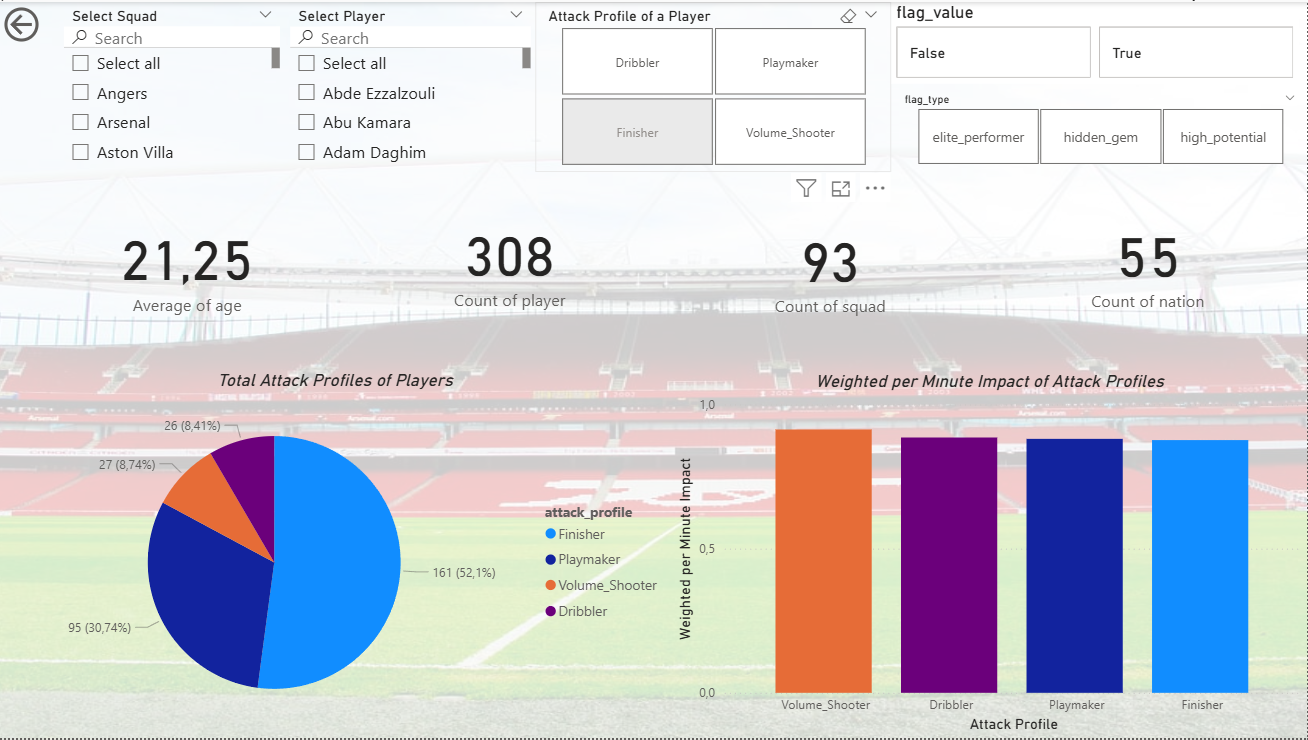

This screenshot's page, from the dashboard's own definition file:
{"tool":"powerbi","page":{"name":"Page 5","canvas":[1280,720],"ordinal":4},"visuals":[{"type":"card","fields":{"Values":["Count(df.player)"]},"box":[342.9,122.4,314.7,217.9],"z":0},{"type":"pieChart","title":"Total Attack Profiles of Players","fields":{"Category":["df.attack_profile"],"Y":["CountNonNull(df.player)"]},"box":[0,360,657.9,358.7],"z":1000},{"type":"slicer","fields":{"Values":["df.attack_profile"]},"box":[687.5,0,592.8,122.1],"z":2000},{"type":"card","fields":{"Values":["Count(df.squad)"]},"box":[657.3,122.1,293.7,218.2],"z":3000},{"type":"card","fields":{"Values":["Count(df.nation)"]},"box":[951.4,123.5,328.9,217.7],"z":4000},{"type":"slicer","fields":{"Values":["df.player"]},"box":[342.9,0,344.3,122.4],"z":5000},{"type":"slicer","fields":{"Values":["df.squad"]},"box":[58.3,0,284.3,122.9],"z":6000},{"type":"card","fields":{"Values":["Avg(df.age)"]},"box":[0,122,342,218],"z":7000},{"type":"clusteredColumnChart","fields":{"Category":["df.attack_profile"],"Y":["Avg(df.overall_impact)"]},"box":[657.6,360.4,622.7,359.1],"z":8000},{"type":"actionButton","box":[0,0,58.7,44],"z":9000}]}

Visuals, with their boxes on the page's 1280x720 design canvas (x1, y1, x2, y2). These are canvas units, not pixel positions in the 1308x740 screenshot, which may show the page scaled, cropped or inside an application window:
card - Count(df.player): 343, 122, 658, 340
"Total Attack Profiles of Players" pieChart: 0, 360, 658, 719
slicer - df.attack_profile: 688, 0, 1280, 122
card - Count(df.squad): 657, 122, 951, 340
card - Count(df.nation): 951, 124, 1280, 341
slicer - df.player: 343, 0, 687, 122
slicer - df.squad: 58, 0, 343, 123
card - Avg(df.age): 0, 122, 342, 340
clusteredColumnChart - df.attack_profile x Avg(df.overall_impact): 658, 360, 1280, 720
actionButton: 0, 0, 59, 44
